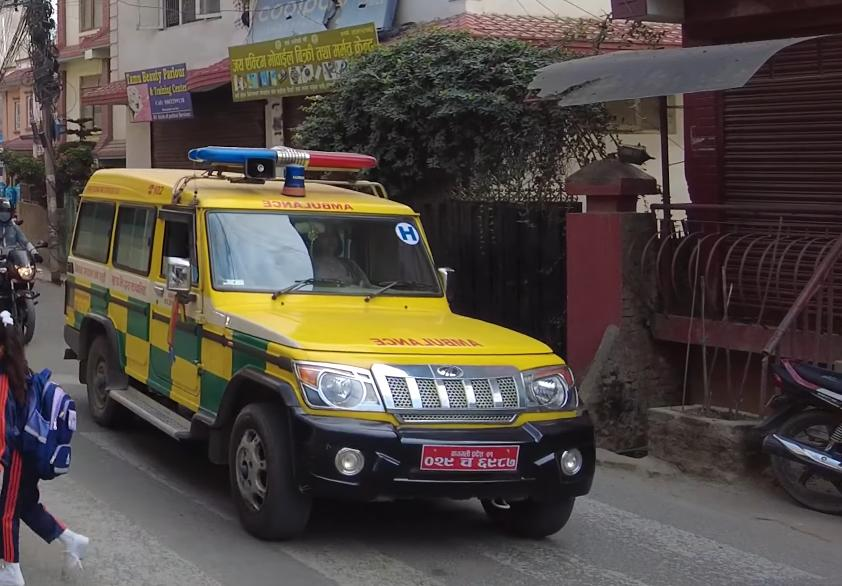ambulance: (52, 141, 606, 548)
